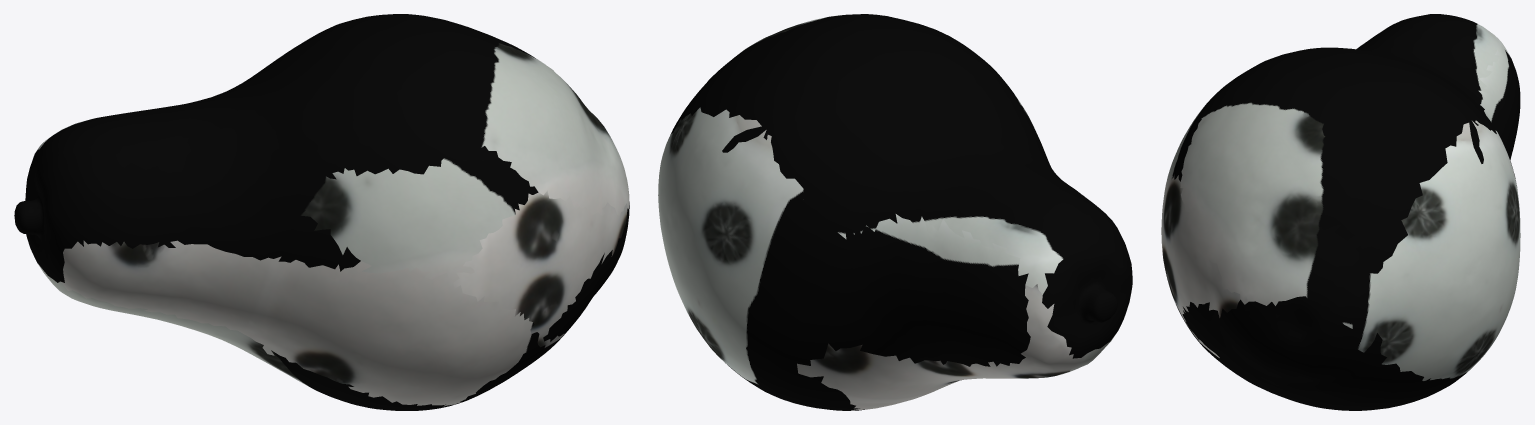
The picture shows the model from 3 angles, left to right: view 1: azimuth 30°, elevation 25°; view 2: azimuth 150°, elevation 25°; view 3: azimuth 270°, elevation 25°; orthographic projection. The views are drawn at different scales.
Parts seen in each view (by area): view 1: textured.015; view 2: textured.015; view 3: textured.015.
Boxes of the visible parts, x1,y1,x2,y2 form: textured.015: (14,14,629,410); textured.015: (658,14,1132,410); textured.015: (1161,14,1520,410).
Size of the model in its own units: 0.1005 by 0.0665 by 0.0657.
